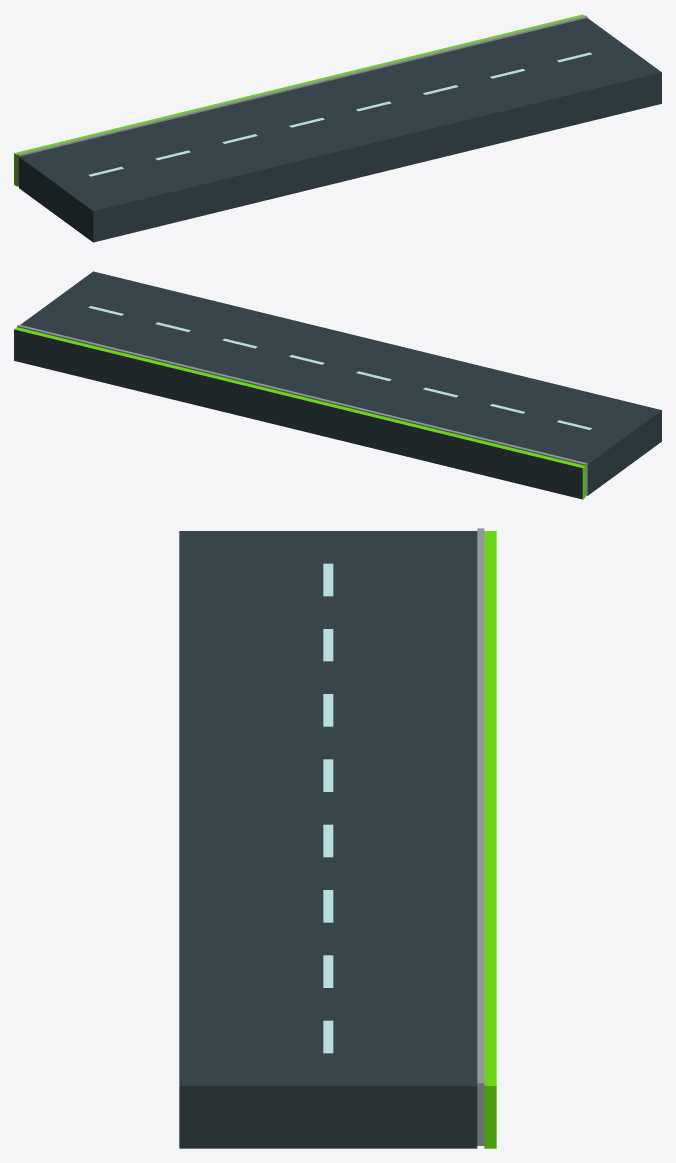
File: Road2 (1).fbx
3 views of the same model, one above another, from view 1: azimuth 30°, elevation 25°; view 2: azimuth 150°, elevation 25°; view 3: azimuth 270°, elevation 25° (orthographic). The views are drawn at different scales.
Parts seen in each view (by area): view 1: Cube.003; view 2: Cube.003; view 3: Cube.003.
Boxes of the visible parts, bbox=[...] form: Cube.003: bbox=[14, 14, 661, 242]; Cube.003: bbox=[14, 271, 661, 499]; Cube.003: bbox=[179, 528, 496, 1148].
Size of the model in its own units: 1270 by 69.88 by 307.
1 material, 1 textured.
